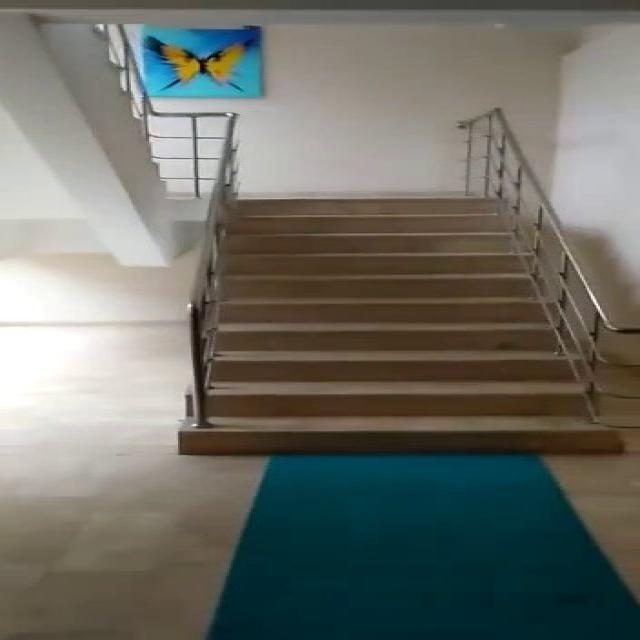upstair: (214, 143, 609, 435)
